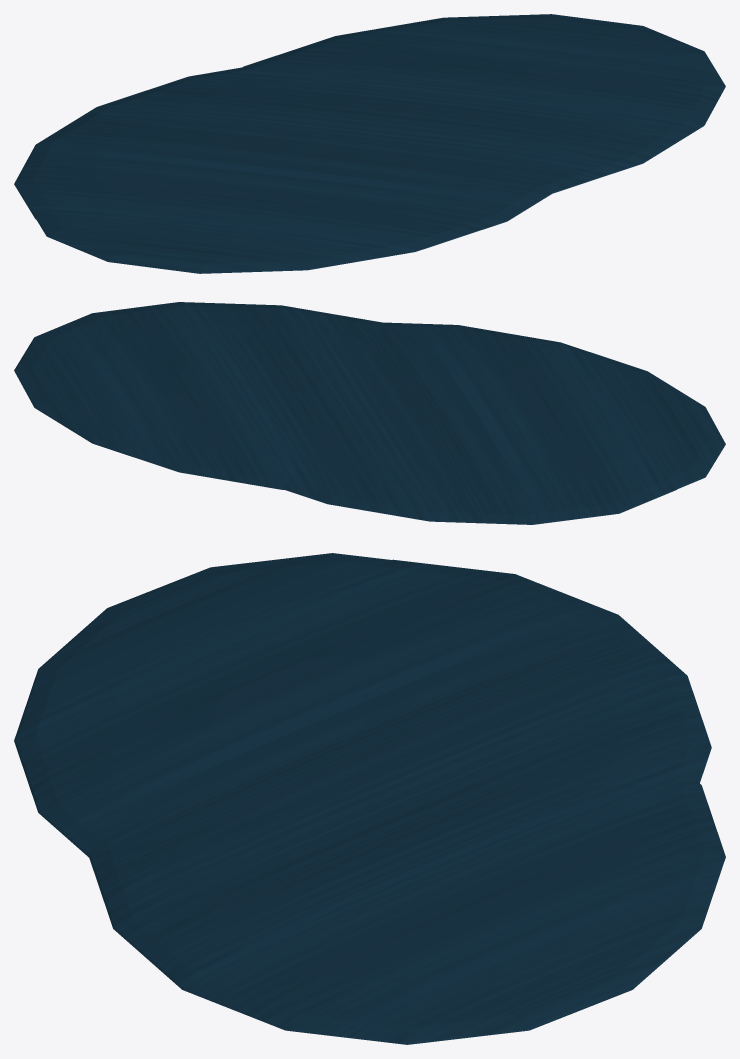
File: PROP-50249ED4F3ED_lod0.glb
The picture shows the model from 3 angles, top to bottom: view 1: azimuth 30°, elevation 25°; view 2: azimuth 150°, elevation 25°; view 3: azimuth 270°, elevation 25°; orthographic projection. The views are drawn at different scales.
Parts seen in each view (by area): view 1: surface_hazard.005; view 2: surface_hazard.005; view 3: surface_hazard.005.
Part boxes in pixels (left/top/right/bottom): surface_hazard.005: left=14, top=14, right=725, bottom=273; surface_hazard.005: left=14, top=302, right=725, bottom=524; surface_hazard.005: left=14, top=553, right=725, bottom=1044.
Bounding box in the file's own units: 1.56 × 0.036 × 0.9522.
1 material, 1 textured.
